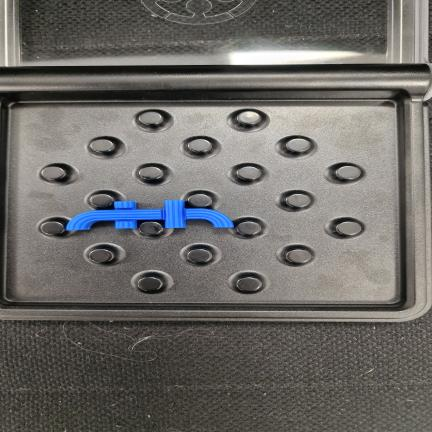C_DarkBlue: (66, 200, 233, 230)
board: (0, 56, 432, 322)
hinge: (0, 68, 428, 95)
pin: (286, 248, 312, 264), (335, 221, 362, 236), (138, 276, 163, 292), (285, 138, 311, 153), (335, 165, 361, 180), (236, 166, 262, 181), (285, 193, 311, 208), (236, 221, 262, 236), (236, 277, 262, 292), (41, 166, 66, 181), (90, 193, 115, 208), (89, 248, 114, 263), (187, 249, 212, 264), (187, 139, 213, 153), (187, 193, 213, 207), (139, 221, 163, 236), (139, 111, 164, 125), (236, 111, 261, 125), (90, 139, 115, 153), (139, 166, 164, 180), (40, 221, 65, 235)
